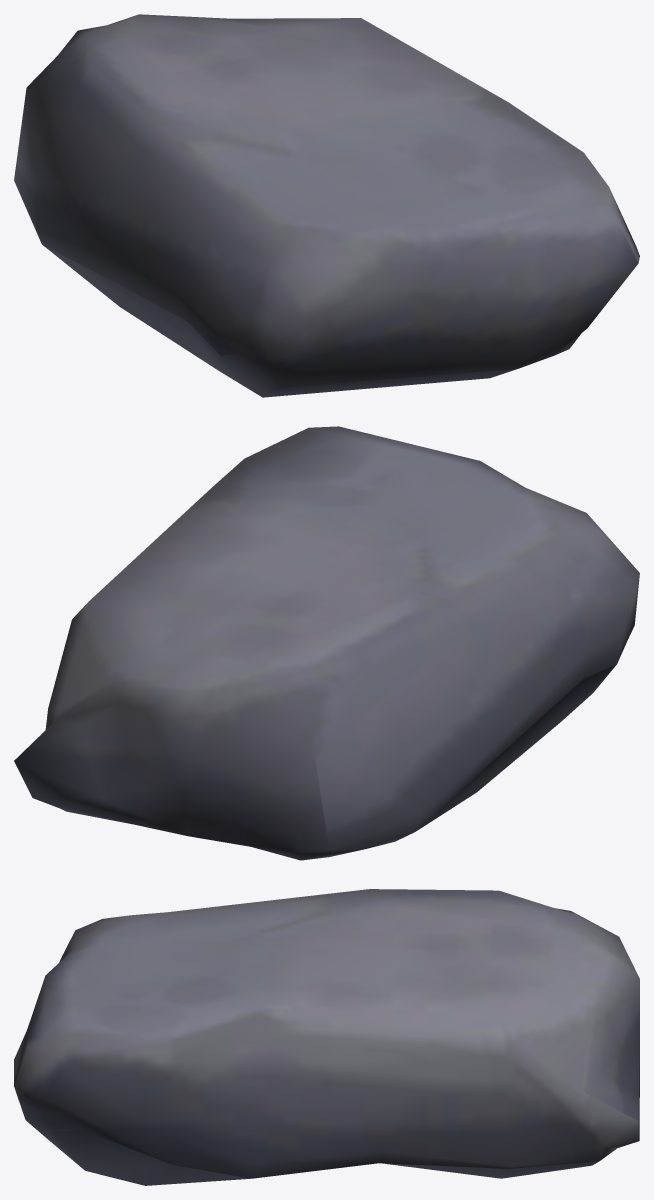
Rendered from DeepForestRockHigh2.fbx.
3 renders of one model, top to bottom at view 1: azimuth 30°, elevation 25°; view 2: azimuth 150°, elevation 25°; view 3: azimuth 270°, elevation 25°, orthographic. The views are drawn at different scales.
Visible parts, largest first — view 1: ForestRock09; view 2: ForestRock09; view 3: ForestRock09.
Boxes of the visible parts, x1,y1,x2,y2 form: ForestRock09: [14, 14, 639, 397]; ForestRock09: [14, 426, 639, 860]; ForestRock09: [14, 889, 639, 1185].
Bounding box in the file's own units: 1.67 × 0.7154 × 2.44.
